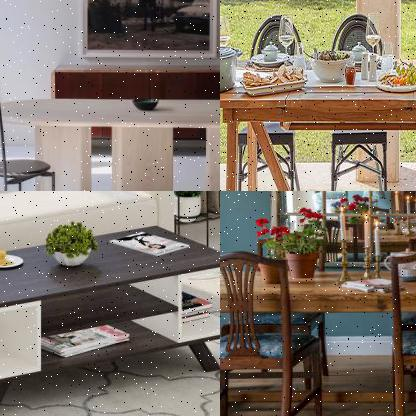table: (0, 221, 219, 415), (220, 253, 415, 415), (220, 50, 415, 190), (0, 94, 219, 190)
